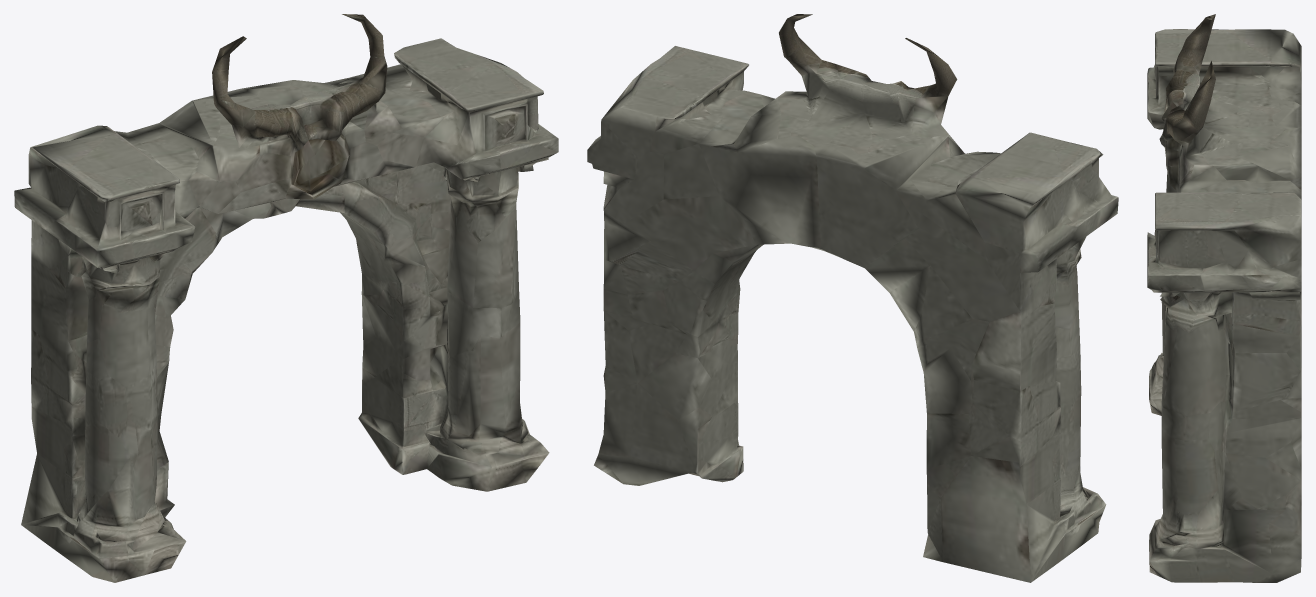
The model's file is gate.glb.
The picture shows the model from 3 angles, left to right: view 1: azimuth 30°, elevation 25°; view 2: azimuth 150°, elevation 25°; view 3: azimuth 270°, elevation 25°; orthographic projection. The views are drawn at different scales.
Bounding box in the file's own units: 1.9 × 1.9 × 0.5985.
Materials: 1 (1 with a texture image).
